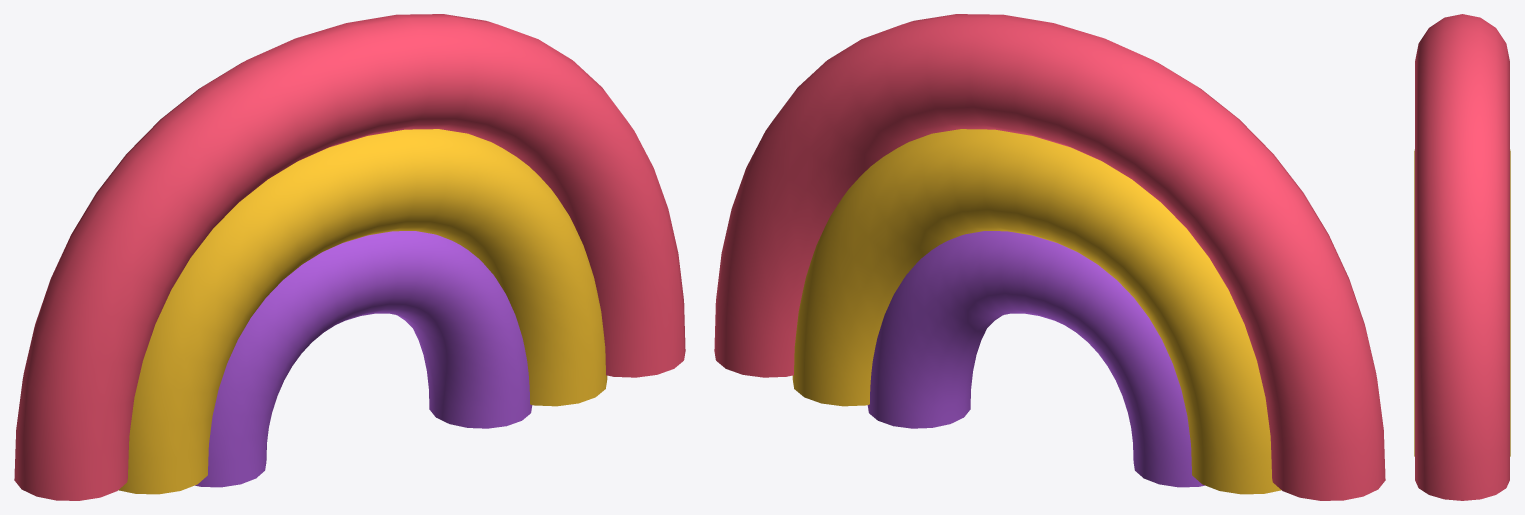
File: 003_Shadow_Rainbow.fbx
The picture shows the model from 3 angles, left to right: view 1: azimuth 30°, elevation 25°; view 2: azimuth 150°, elevation 25°; view 3: azimuth 270°, elevation 25°; orthographic projection. The views are drawn at different scales.
Parts seen in each view (by area): view 1: BézierCurve.005, BézierCurve.006, BézierCurve.007; view 2: BézierCurve.005, BézierCurve.006, BézierCurve.007; view 3: BézierCurve.005, BézierCurve.006.
Boxes of the visible parts, x1,y1,x2,y2 form: BézierCurve.005: [14, 14, 685, 500]; BézierCurve.006: [118, 129, 607, 494]; BézierCurve.007: [195, 231, 532, 487]; BézierCurve.005: [714, 14, 1385, 500]; BézierCurve.006: [792, 129, 1281, 494]; BézierCurve.007: [867, 231, 1204, 487]; BézierCurve.005: [1415, 14, 1509, 500]; BézierCurve.006: [1414, 149, 1510, 456].
Bounding box in the file's own units: 40.84 × 24.41 × 6.29.
